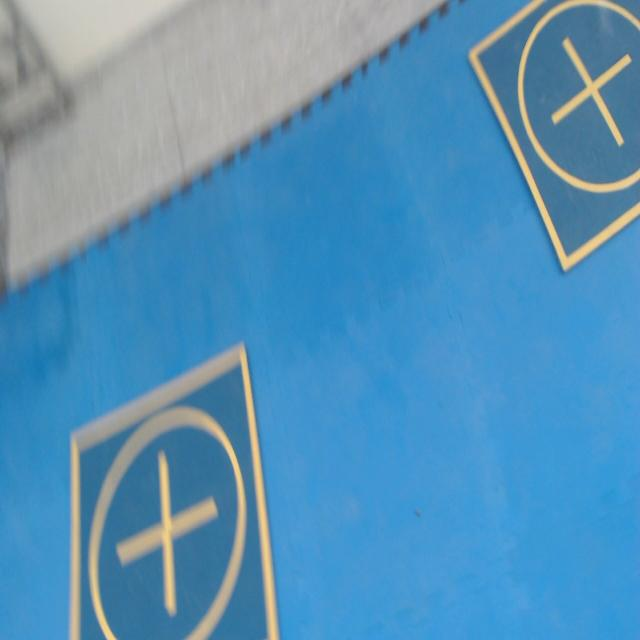base_pouso: (67, 340, 282, 639), (465, 0, 640, 278)
